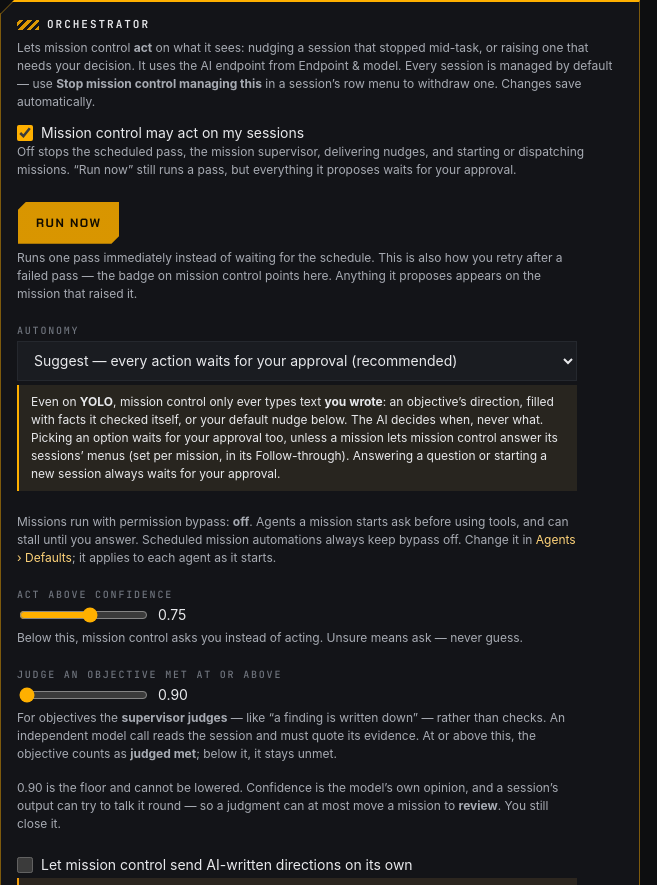
Test case: a stale save response cannot overwrite a newer one
Set the slider labelled "Act above confidence" to "0.6" at [52, 615], box [19,607,148,623]
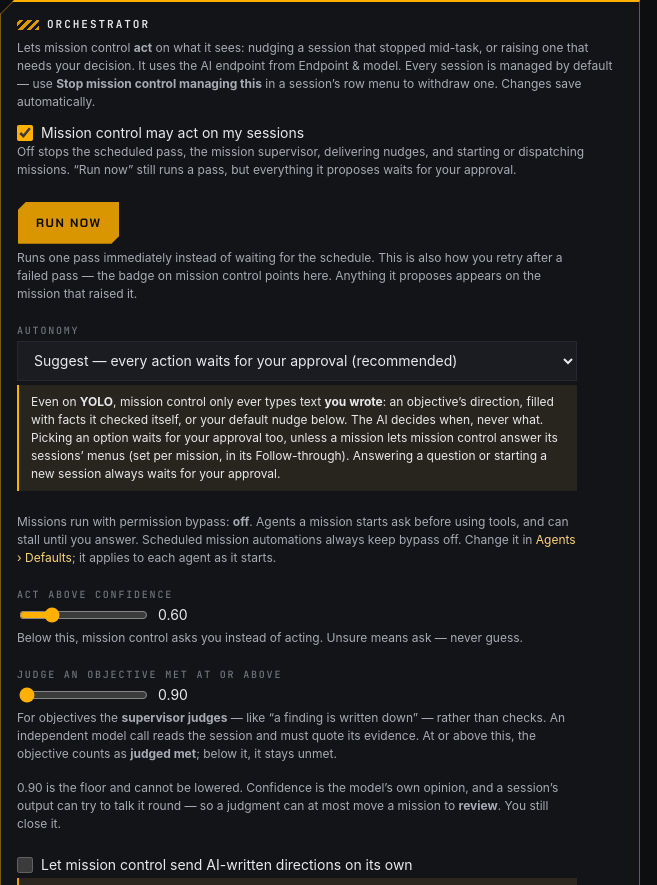
Set the slider labelled "Act above confidence" to "0.9" at [127, 615], box [19,607,148,623]
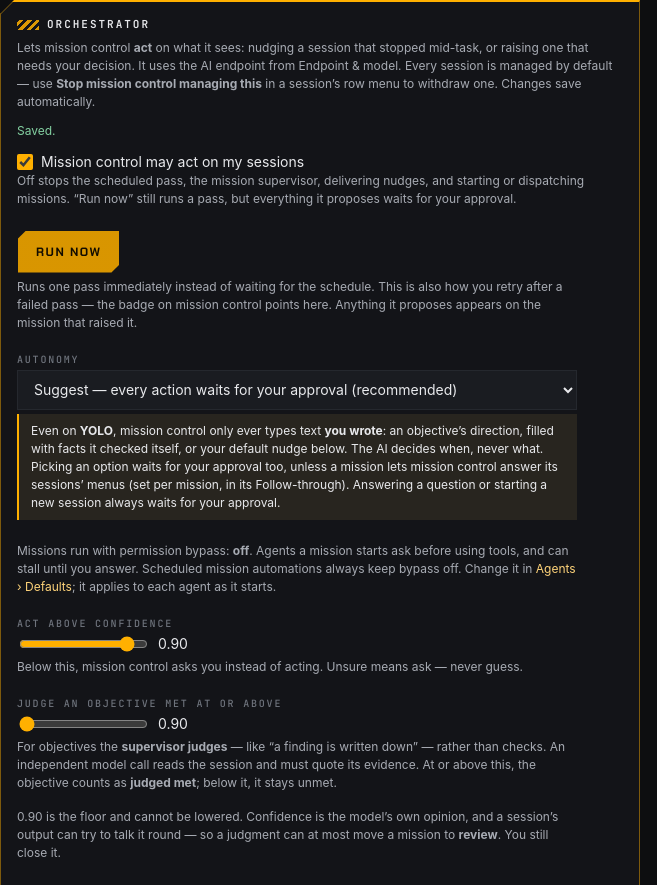
Now the text "0.90" below "Act above confidence" is shown, box [158,635,188,652]
